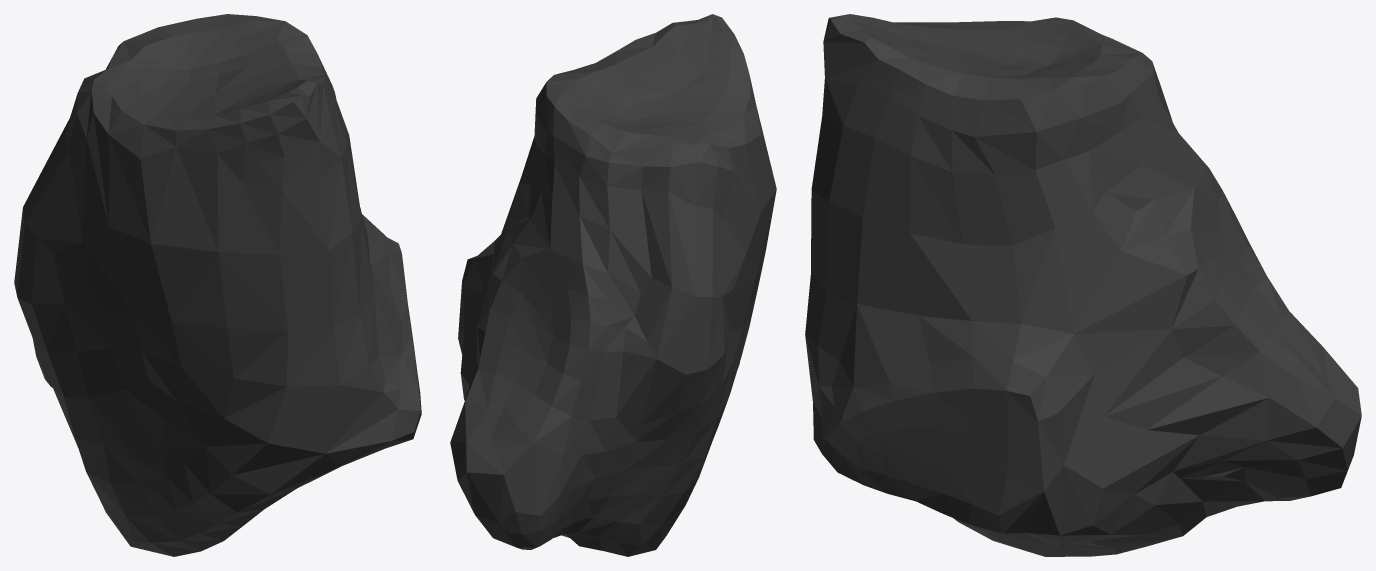
The model's file is Ulnar_carpal_R.glb.
3 renders of one model, left to right at view 1: azimuth 30°, elevation 25°; view 2: azimuth 150°, elevation 25°; view 3: azimuth 270°, elevation 25°, orthographic. The views are drawn at different scales.
Parts seen in each view (by area): view 1: Ulnar_carpal_R; view 2: Ulnar_carpal_R; view 3: Ulnar_carpal_R.
Part boxes in pixels (x1,y1,x2,y2): Ulnar_carpal_R: (14,14,421,556); Ulnar_carpal_R: (450,14,776,556); Ulnar_carpal_R: (805,14,1361,556).
Bounding box in the file's own units: 0.0374 × 0.0559 × 0.0507.
Materials: 1 (1 with a texture image).
